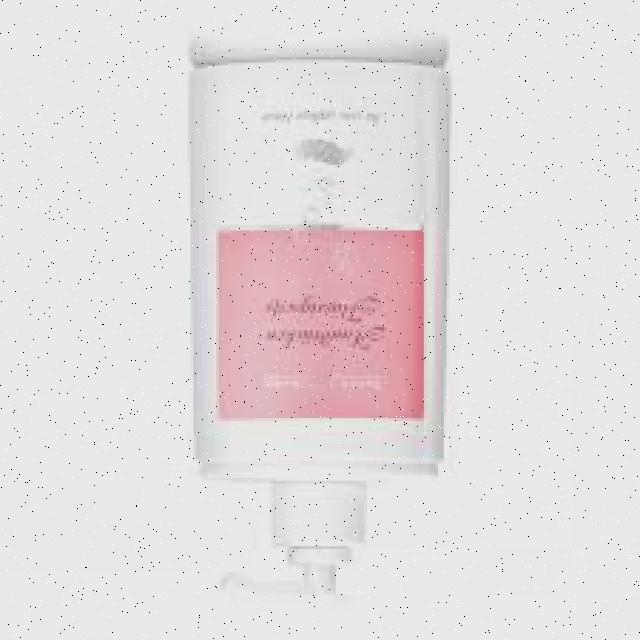liquid soap: (179, 47, 456, 609)
